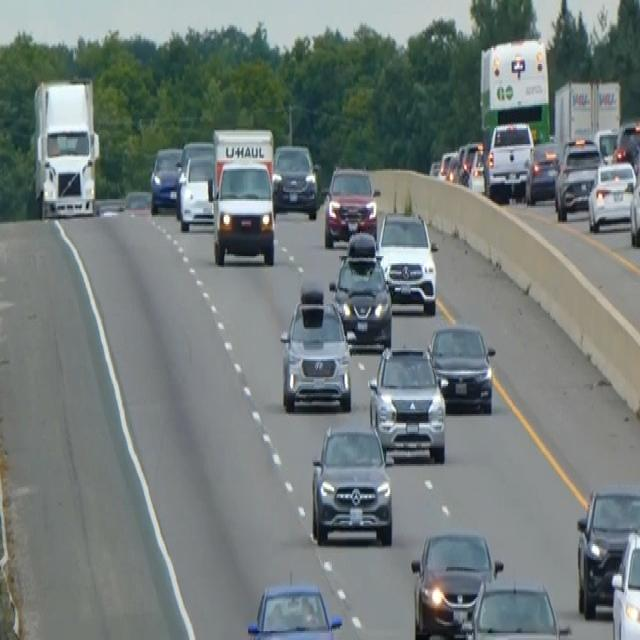car: (310, 420, 393, 546), (410, 526, 502, 638), (367, 343, 446, 462), (279, 286, 352, 412), (575, 484, 639, 618), (328, 230, 392, 348), (461, 578, 571, 638), (376, 208, 438, 313), (427, 320, 496, 412), (246, 578, 343, 638), (323, 164, 379, 247), (553, 135, 603, 221), (484, 119, 534, 199), (272, 140, 319, 218), (587, 157, 636, 231), (610, 528, 639, 638), (176, 151, 215, 231), (524, 137, 561, 204), (149, 144, 183, 213), (613, 119, 639, 176), (456, 138, 482, 186), (628, 153, 639, 247), (591, 126, 618, 162), (467, 146, 487, 194), (439, 150, 458, 182)
lorry: (30, 73, 101, 220)
minivan: (211, 158, 276, 265)
